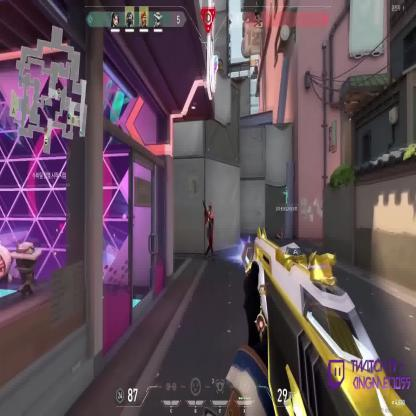enemy: (203, 202, 217, 262)
enemy_head: (207, 204, 212, 216)
